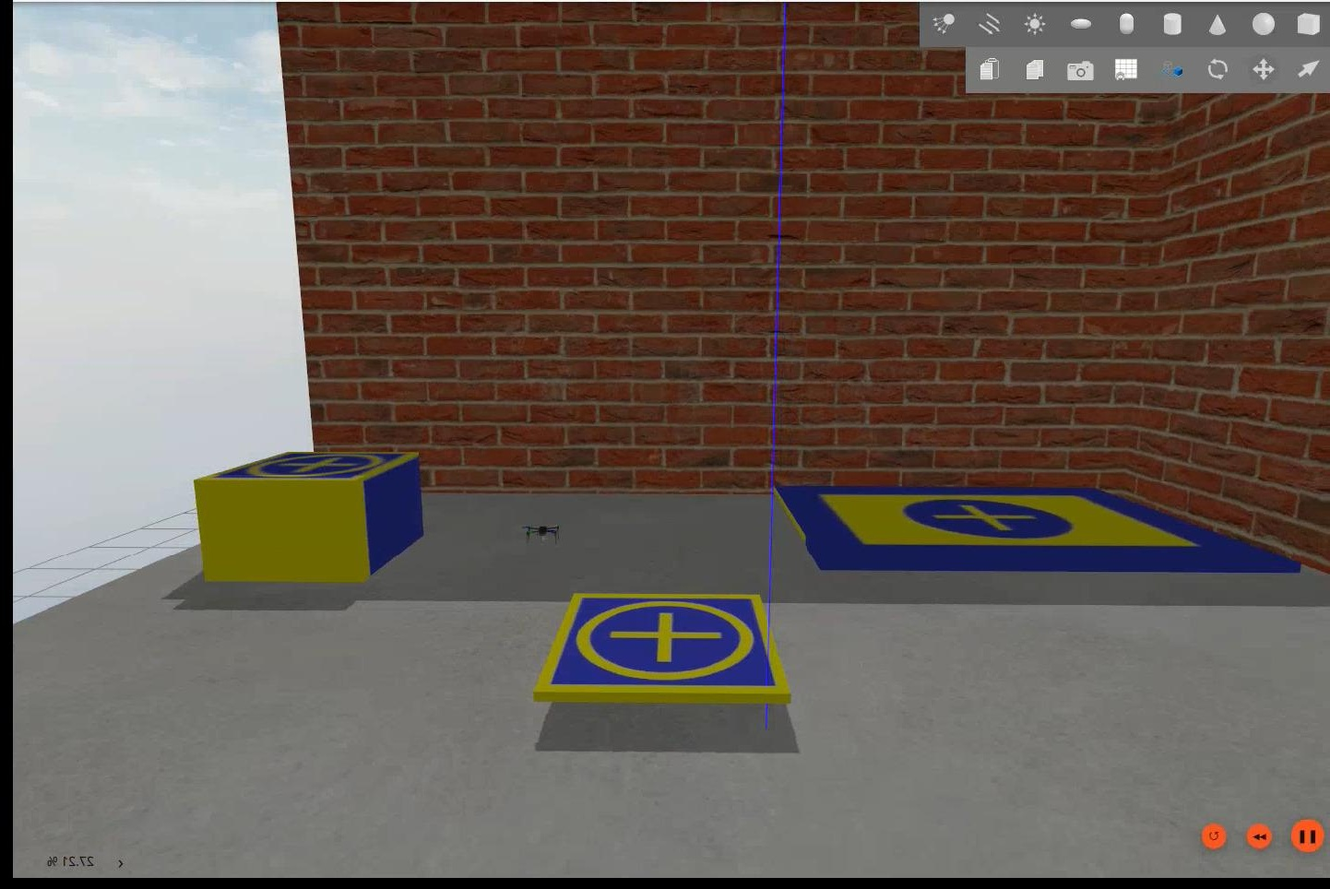large_base: (772, 483, 1293, 572)
small_base: (528, 594, 789, 705), (195, 446, 417, 490)
